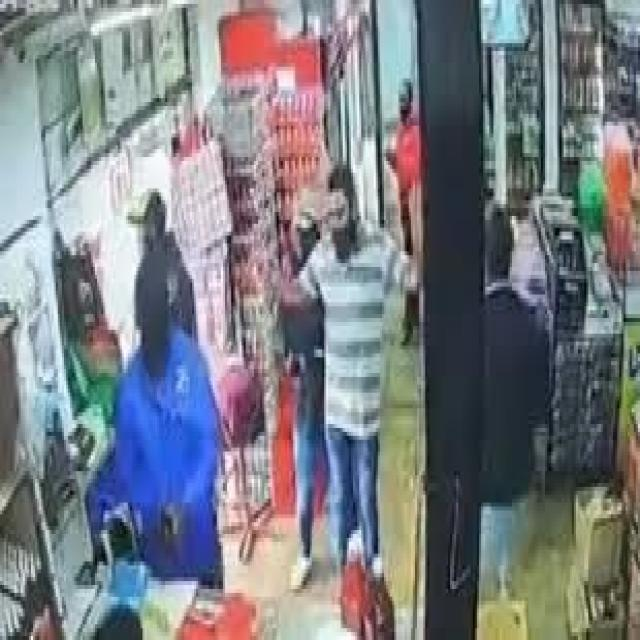weapon: (154, 494, 178, 554)
